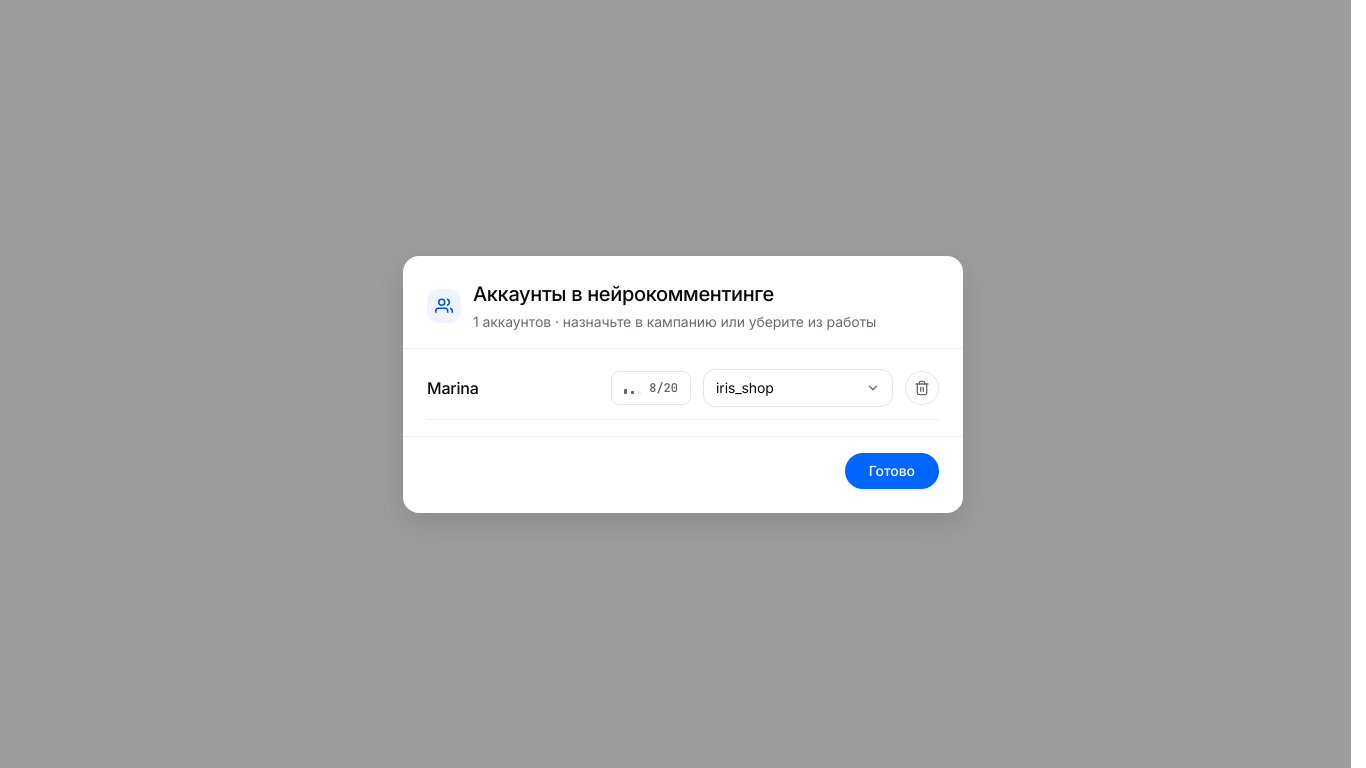
Test: a t.me channel is labelled by the part that tells it apart
Click the button with aria-label "Каналы аккаунта". click: (798, 388)
box: x1=703 y1=368 x2=893 y2=406
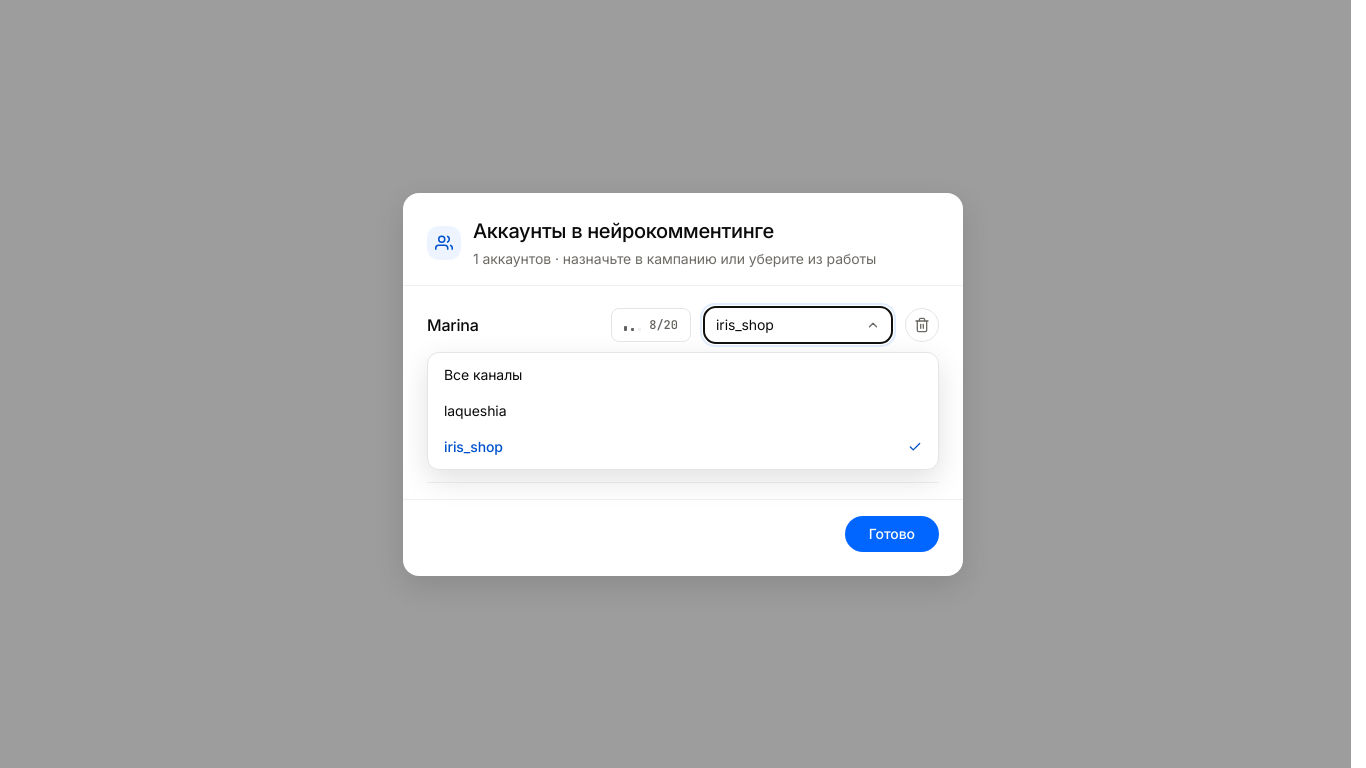
Expected: the options read "Все каналы", "laqueshia", "iris_shop", in this order, x1=432 y1=356 x2=934 y2=392; x1=432 y1=392 x2=934 y2=428; x1=432 y1=428 x2=934 y2=464
